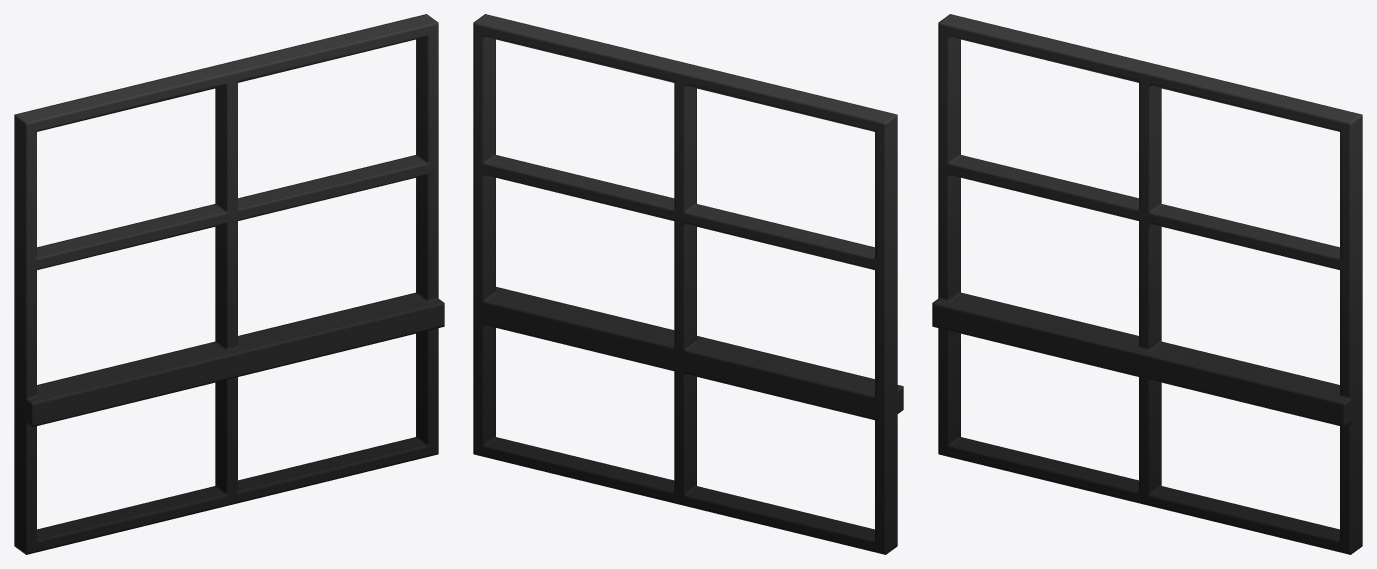
Rendered from SM_pillar_grid.fbx.
The picture shows the model from 3 angles, left to right: view 1: azimuth 30°, elevation 25°; view 2: azimuth 150°, elevation 25°; view 3: azimuth 330°, elevation 25°; orthographic projection.
Parts seen in each view (by area): view 1: SM_pillar_grid; view 2: SM_pillar_grid; view 3: SM_pillar_grid.
Part boxes in pixels (x1=…): SM_pillar_grid: x1=14, y1=14, x2=444, y2=554; SM_pillar_grid: x1=473, y1=14, x2=903, y2=554; SM_pillar_grid: x1=932, y1=14, x2=1362, y2=554.
Bounding box in the file's own units: 400 × 400 × 30.
